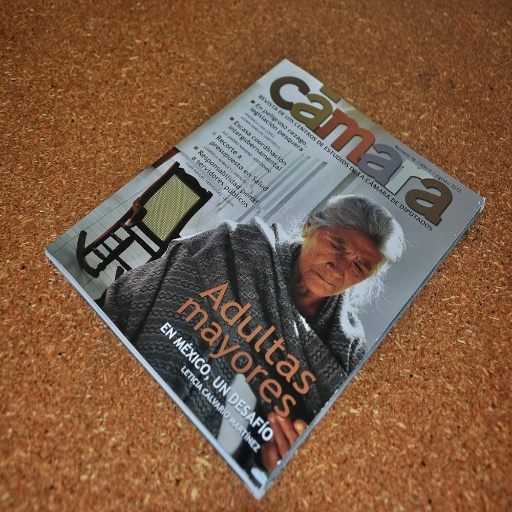hand: (262, 413, 306, 470)
